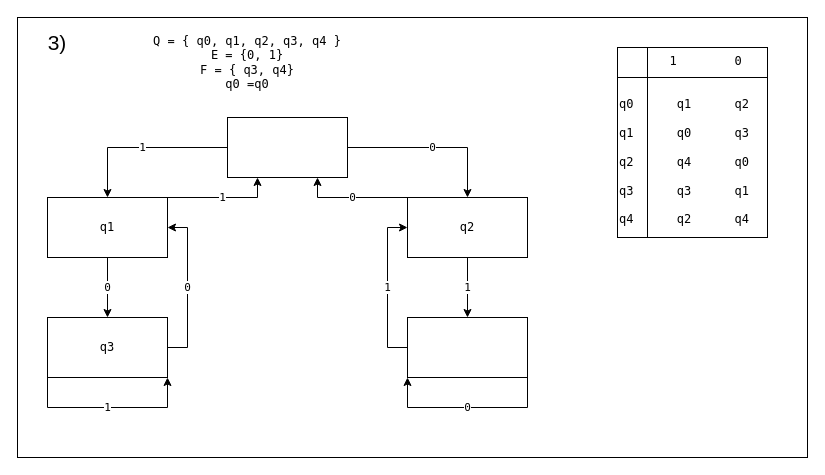
The diagram is 825 pixels wide and 475 high, and some of its shapes have lost their labels. The shapes that lost their labels are listed below. From the top down, each one's centre as x and y in pixels, then its label:
At point (287, 147): "q0".
At point (467, 347): "q4".
